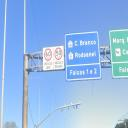speed_limit_50: (54, 47, 62, 60)
speed_limit_60: (44, 48, 52, 61)
